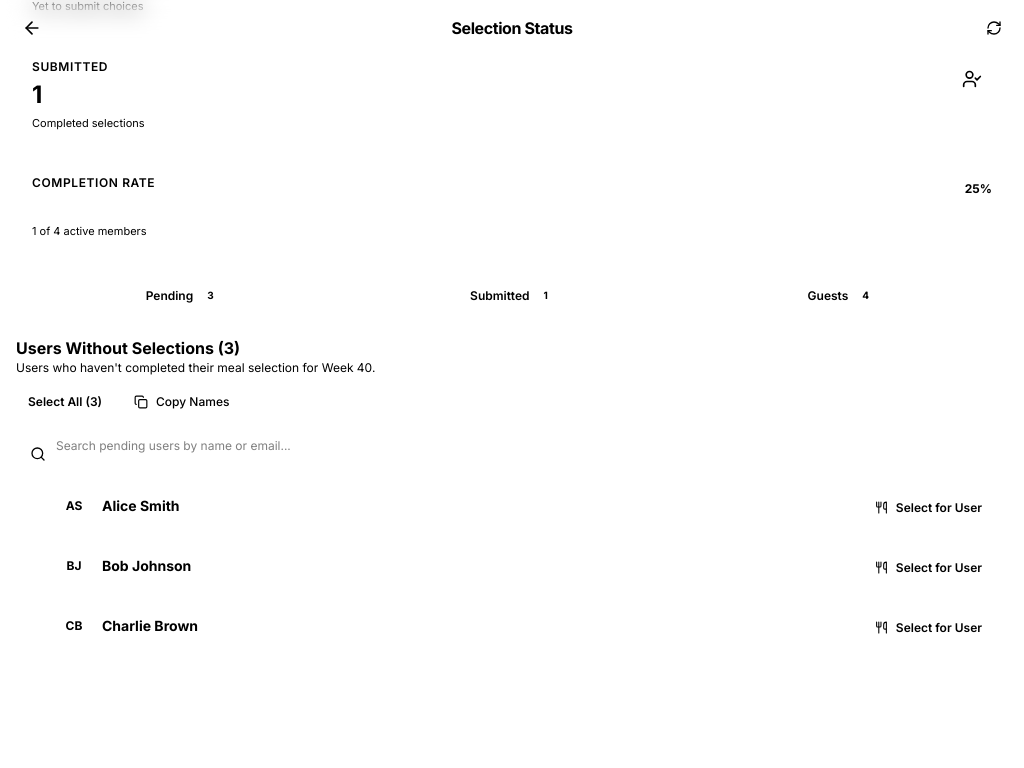
Test: SelectionStatus Admin Page › filters pending users by search query
(page scrolled)
Type "alice" into the field with placeholder "Search pending users by name or email..." at (512, 446), box [16,428,1008,464]
(page scrolled)
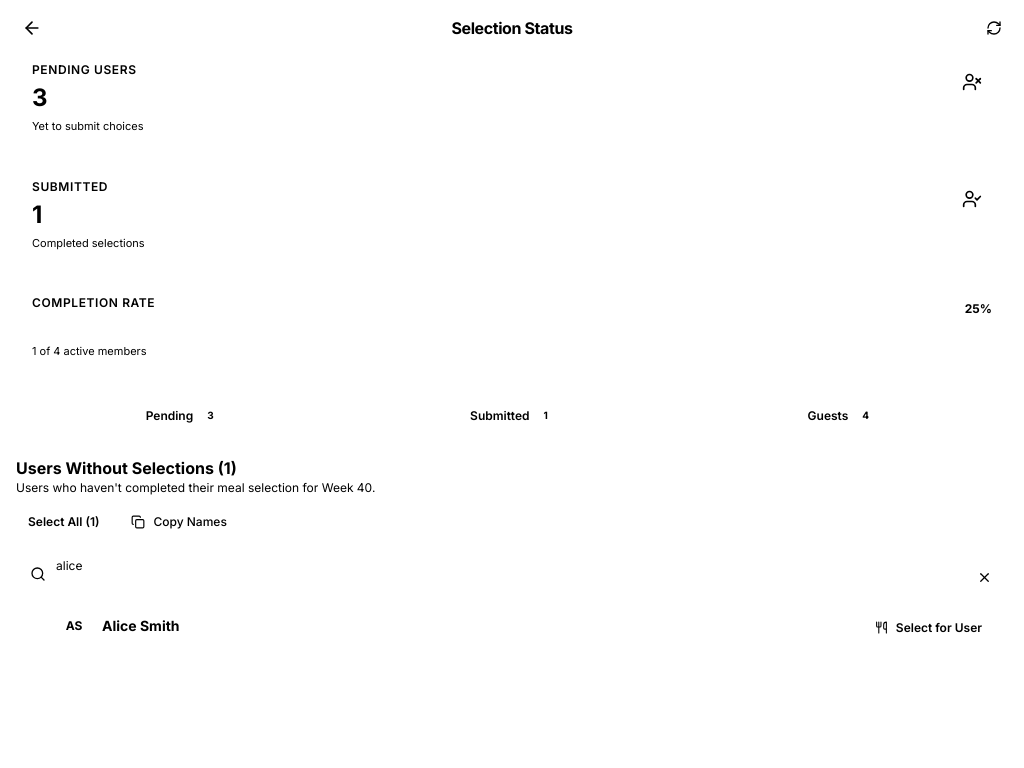
Expected: the heading "Alice Smith" is shown, [102,616,180,634]
Expected: the heading "Bob Johnson" is gone
Expected: the heading "Charlie Brown" is gone
